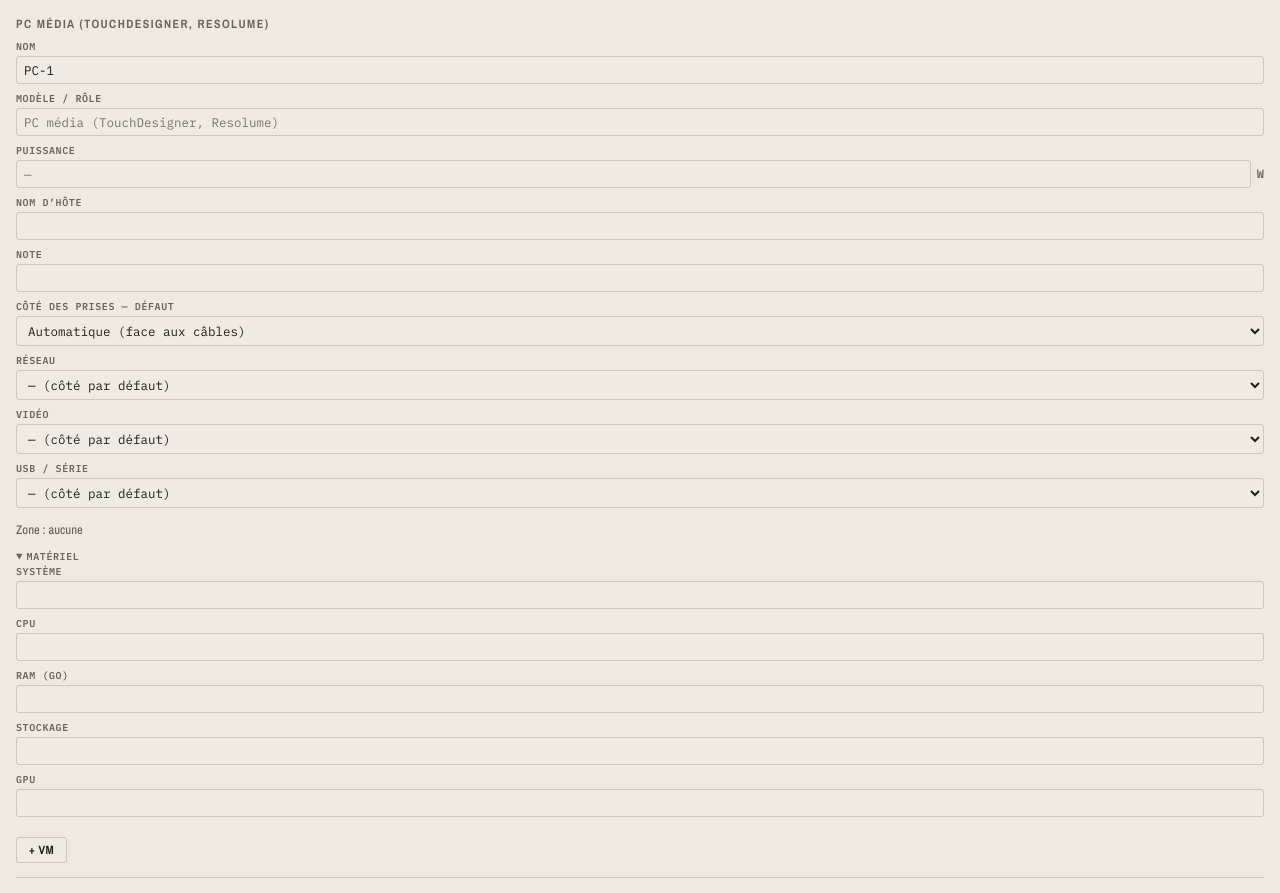
DeviceForm — VMs et matériel › « + VM » sur un ordinateur, pas sur une caméra
Click the button "+ VM".
click(42, 850)  # box x1=16 y1=837 x2=67 y2=863
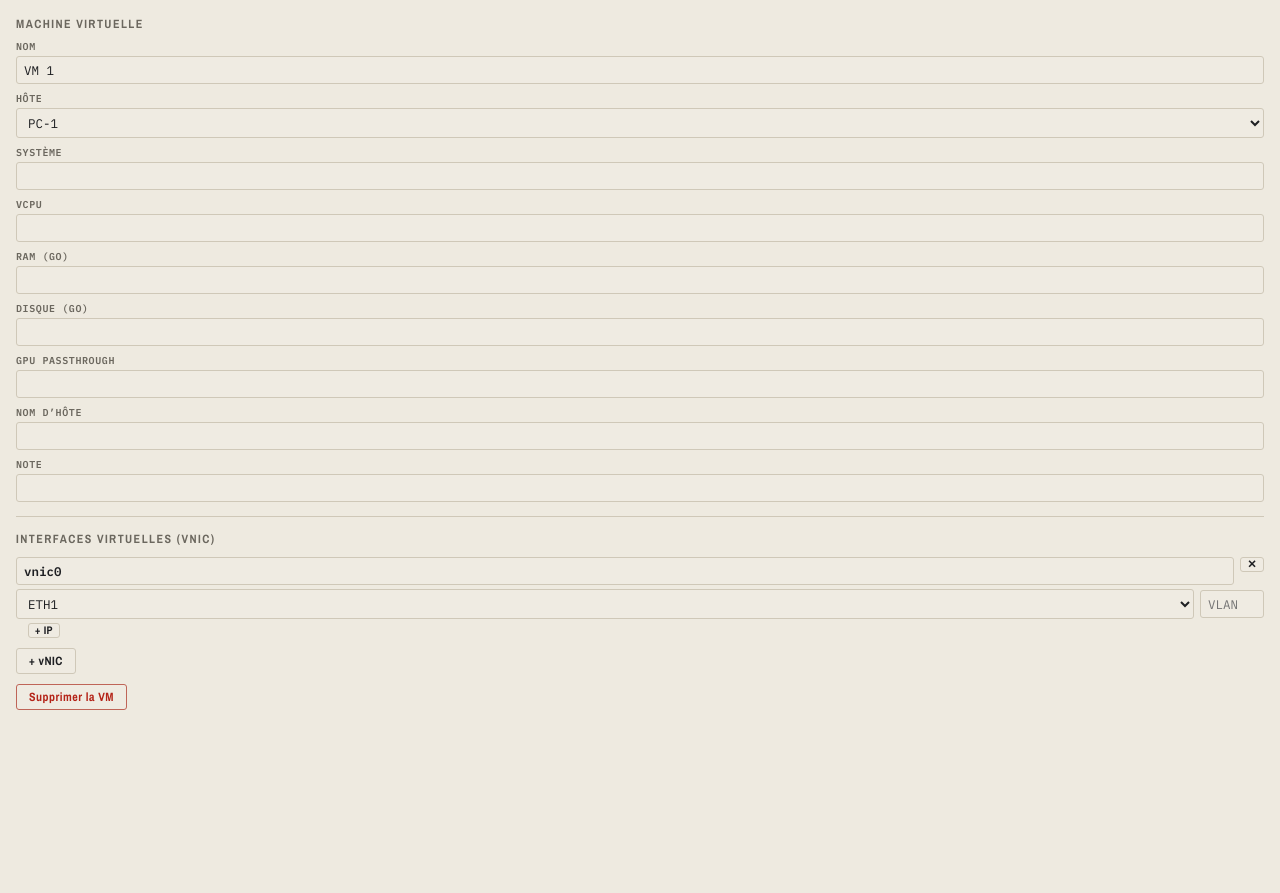
Check: the heading "Machine virtuelle" is shown, box x1=16 y1=16 x2=144 y2=32
